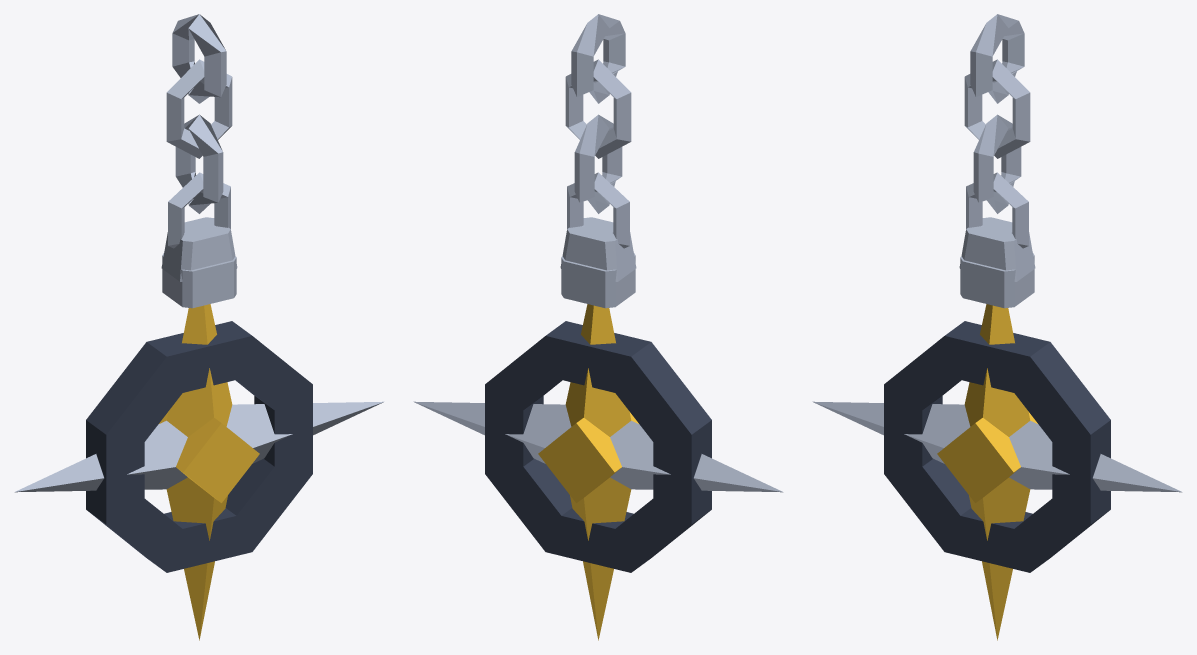
File: CompassRose.fbx
3 views of the same model, side by side, from view 1: azimuth 30°, elevation 25°; view 2: azimuth 150°, elevation 25°; view 3: azimuth 330°, elevation 25° (orthographic).
Parts seen in each view (by area): view 1: Body_Comp_Dark, Body_Comp_Steel, Body_Comp_Gold, Chain; view 2: Body_Comp_Dark, Body_Comp_Steel, Body_Comp_Gold, Chain; view 3: Body_Comp_Dark, Body_Comp_Steel, Body_Comp_Gold, Chain.
Part boxes in pixels (bbox=[...]): Body_Comp_Dark: bbox=[86, 321, 312, 572]; Body_Comp_Steel: bbox=[14, 172, 384, 492]; Body_Comp_Gold: bbox=[159, 304, 259, 640]; Chain: bbox=[166, 14, 232, 213]; Body_Comp_Dark: bbox=[485, 321, 711, 572]; Body_Comp_Steel: bbox=[413, 172, 783, 492]; Body_Comp_Gold: bbox=[538, 304, 638, 640]; Chain: bbox=[565, 14, 631, 213]; Body_Comp_Dark: bbox=[884, 321, 1110, 572]; Body_Comp_Steel: bbox=[812, 172, 1182, 492]; Body_Comp_Gold: bbox=[937, 304, 1037, 640]; Chain: bbox=[964, 14, 1030, 213].
Bounding box in the file's own units: 0.232 × 0.3749 × 0.048.
